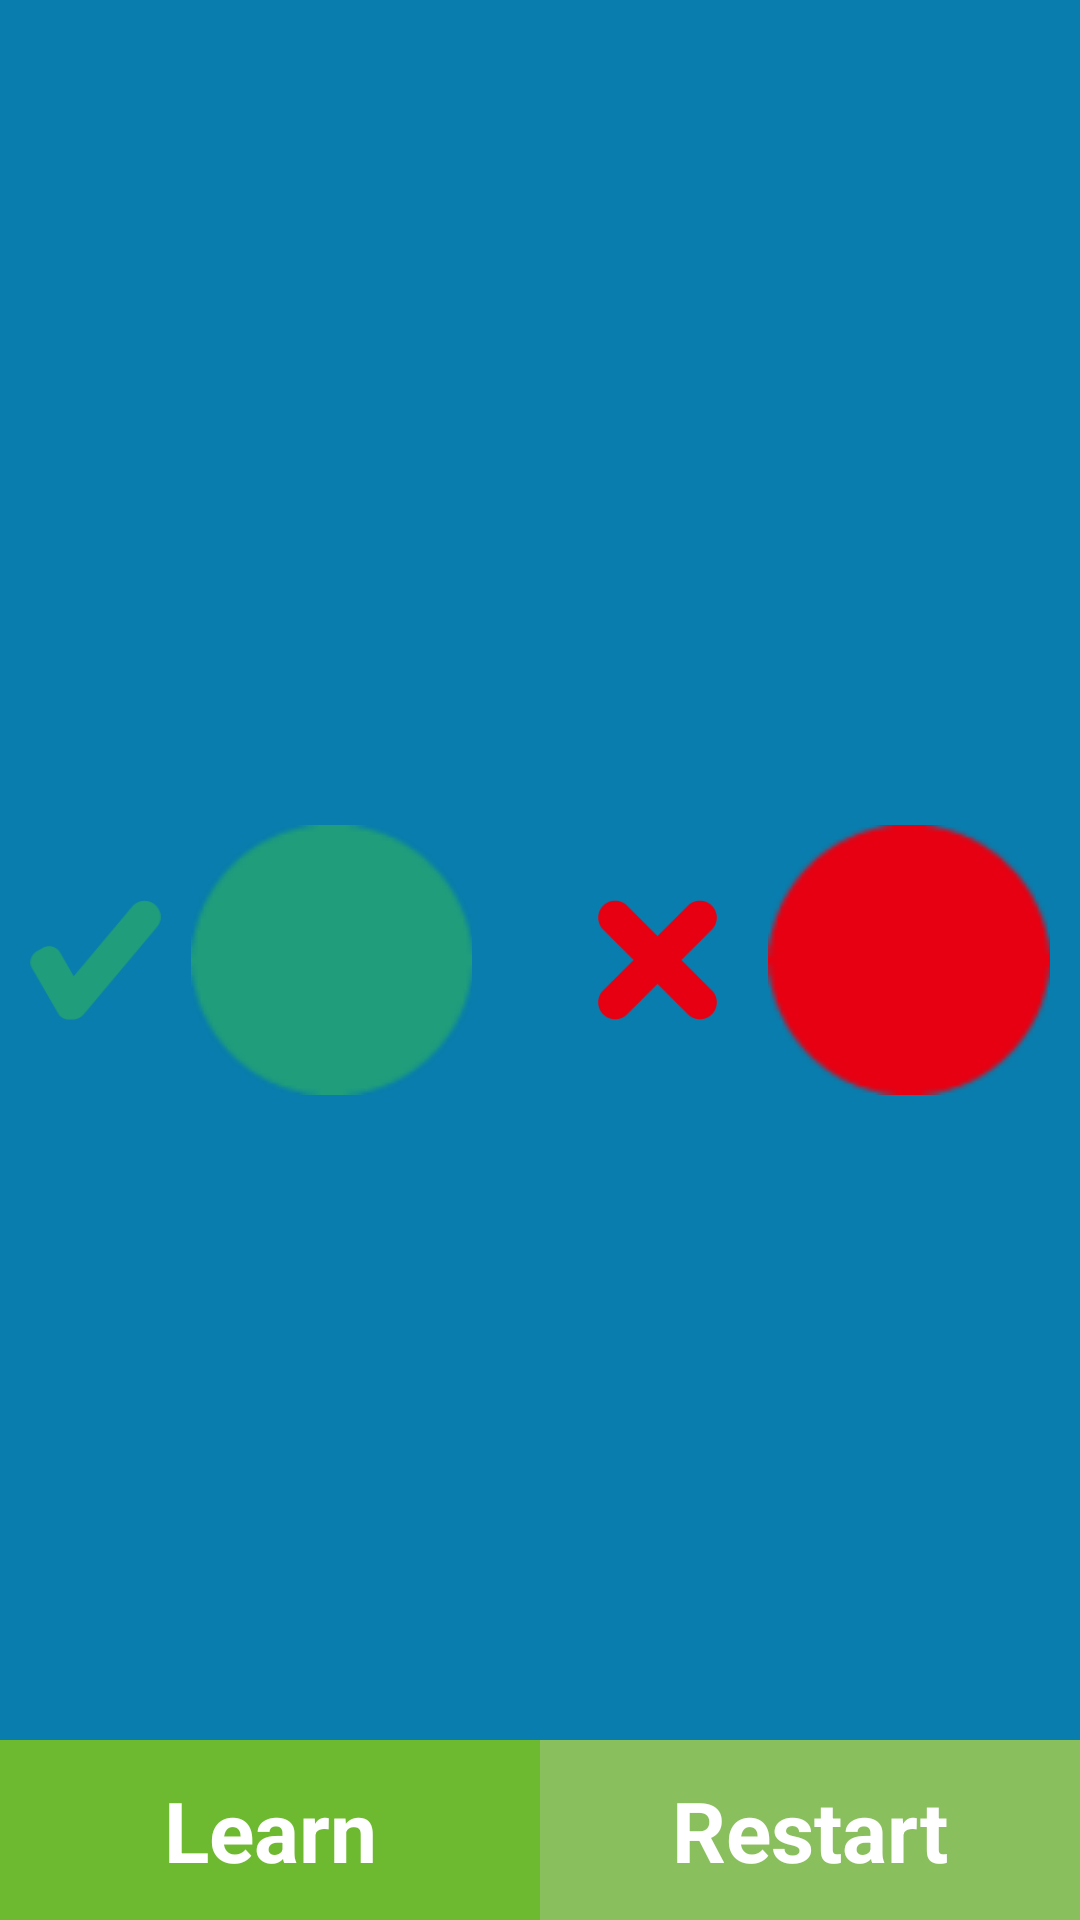

Locate icon controls on the screen. Image size 1080 x 1920, boxes as (x1, y1, x2, y2).
right: (30, 901, 161, 1020)
wrong: (598, 900, 717, 1020)
